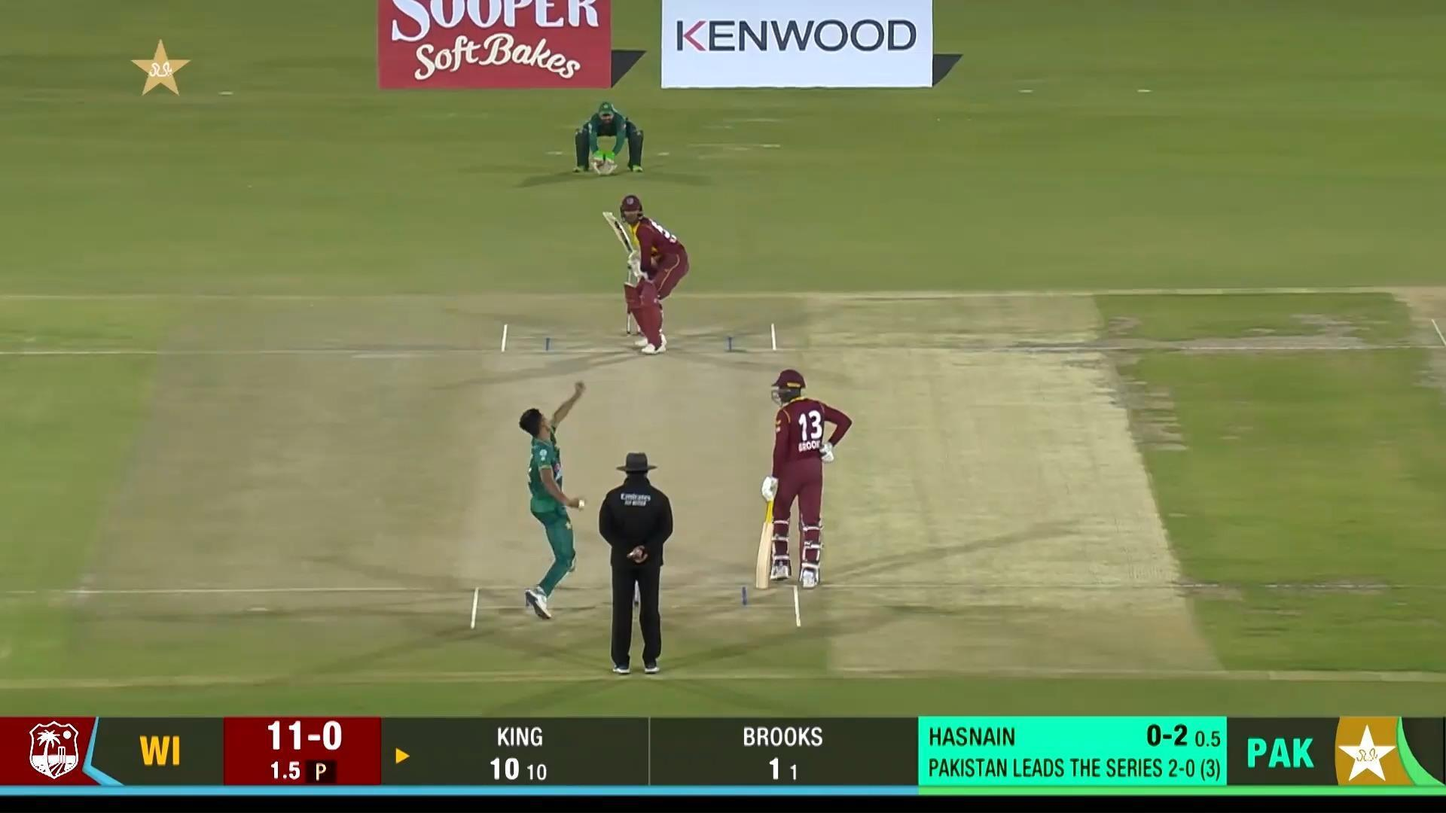BM 1: (601, 195, 690, 357)
BO: (518, 379, 588, 622)
